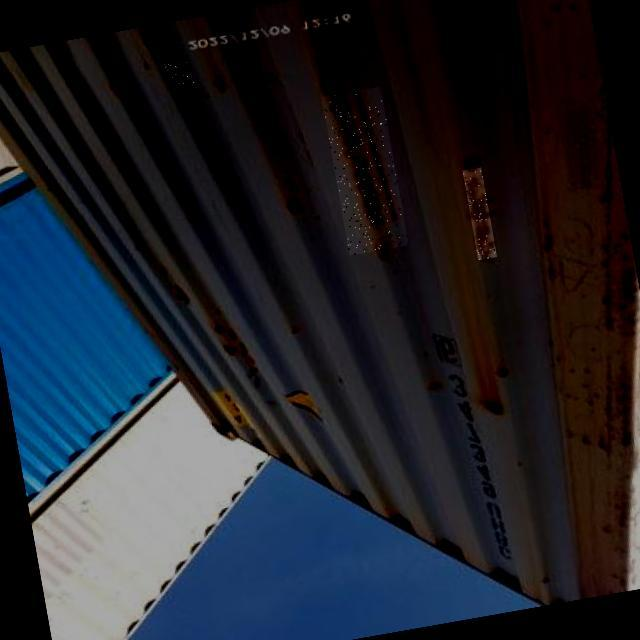Rust: (321, 86, 408, 255), (463, 167, 497, 260), (164, 58, 194, 88)
